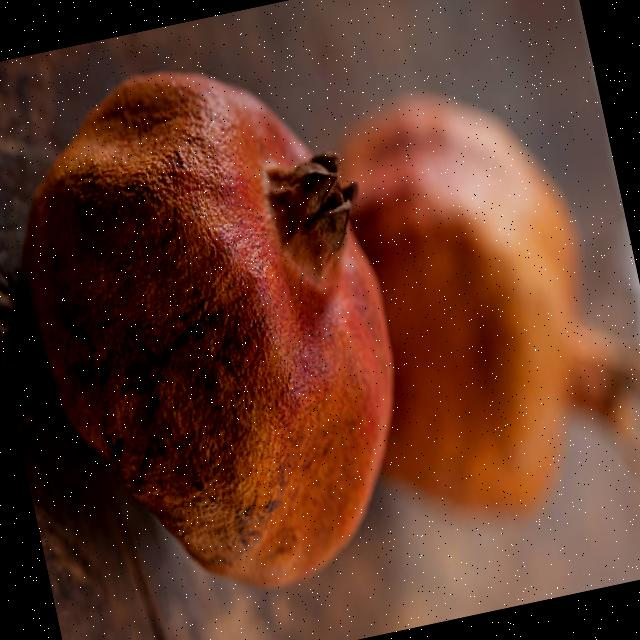overripe: (0, 27, 445, 630)
